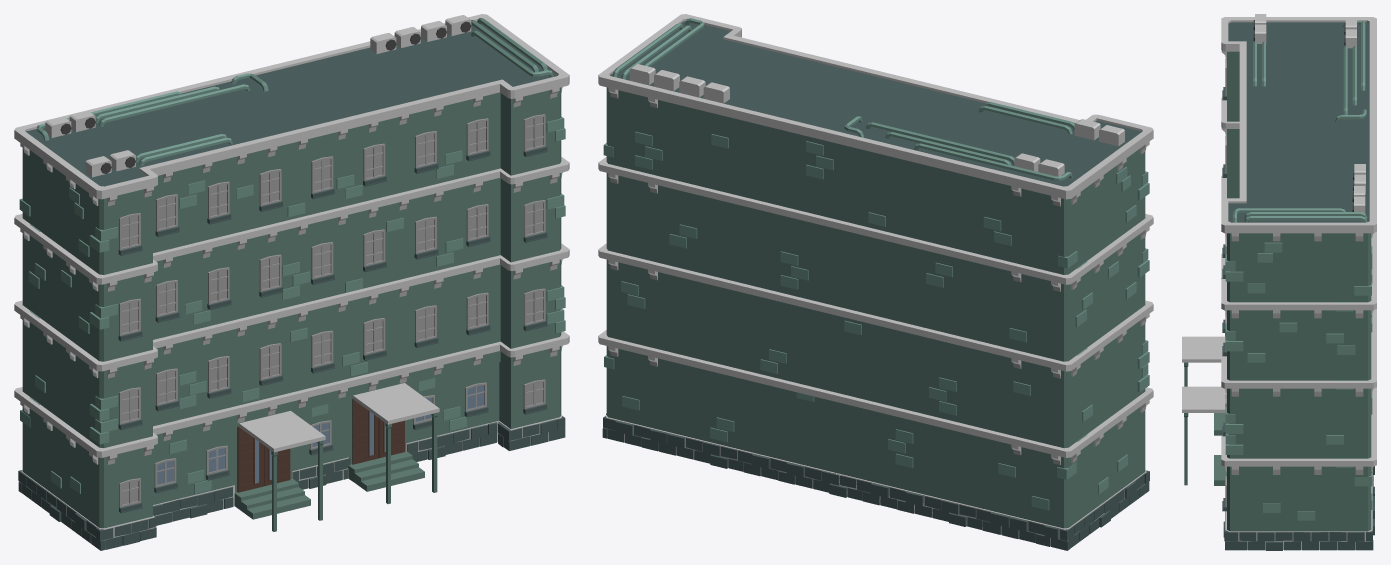
The model's file is 4Story_Wide_2Doors_Mat.gltf.
The picture shows the model from 3 angles, left to right: view 1: azimuth 30°, elevation 25°; view 2: azimuth 150°, elevation 25°; view 3: azimuth 270°, elevation 25°; orthographic projection. The views are drawn at different scales.
Visible parts, largest first — view 1: 4Story_Wide_2Doors_Mat; view 2: 4Story_Wide_2Doors_Mat; view 3: 4Story_Wide_2Doors_Mat.
Part boxes in pixels (left/top/right/bottom): 4Story_Wide_2Doors_Mat: left=14, top=14, right=569, bottom=550; 4Story_Wide_2Doors_Mat: left=598, top=14, right=1153, bottom=550; 4Story_Wide_2Doors_Mat: left=1182, top=14, right=1376, bottom=550.
Size of the model in its own units: 6.83 by 5.15 by 2.7.
